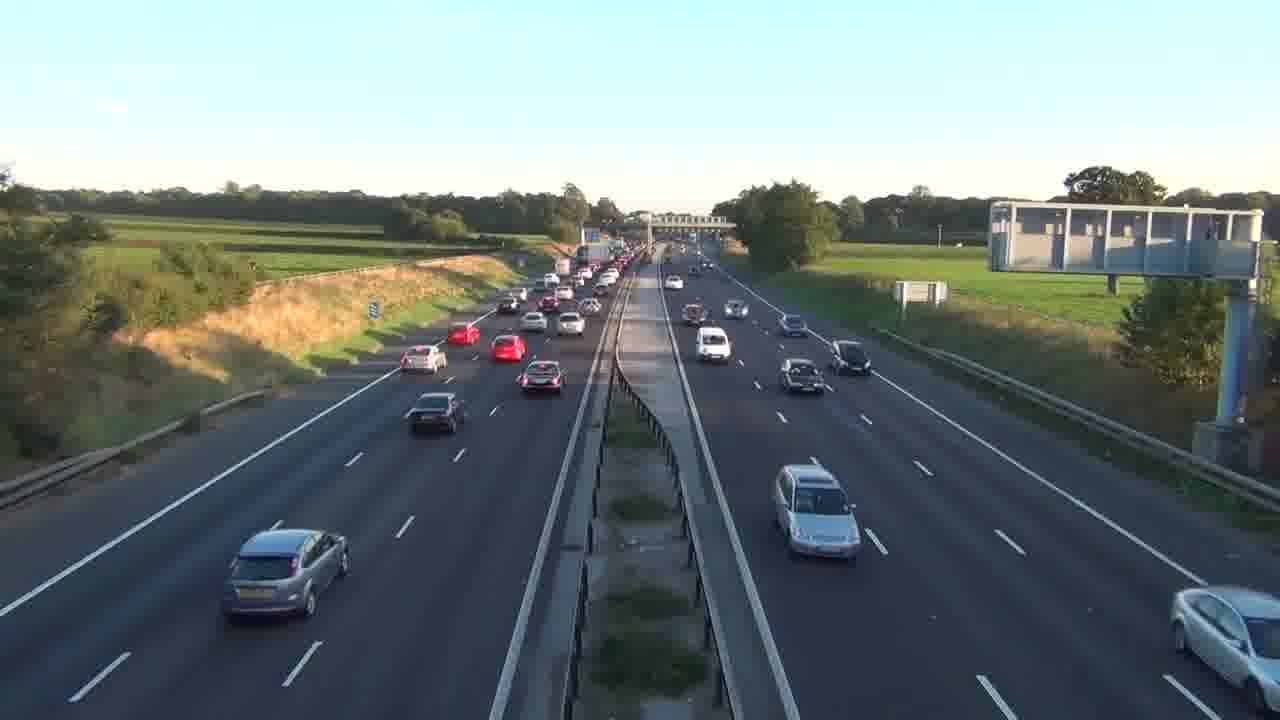car: (1169, 585, 1280, 715), (219, 521, 351, 621), (403, 391, 466, 435), (779, 357, 828, 394), (516, 359, 564, 394), (488, 333, 528, 364)
truck: (772, 457, 862, 562)
